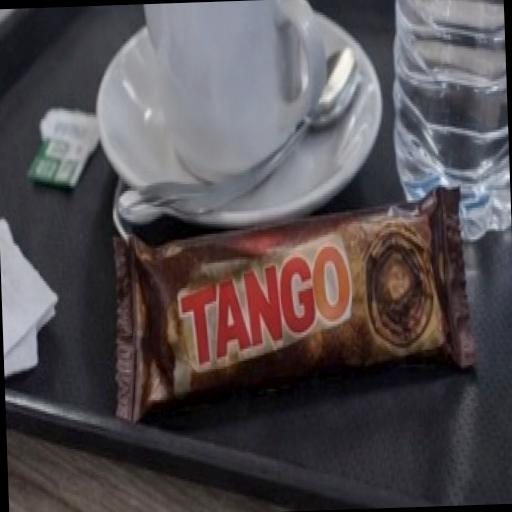tango: (68, 128, 487, 455)
